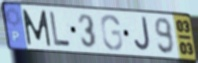3: (76, 13, 97, 50)
9: (154, 16, 177, 56)
G: (99, 13, 124, 52)
J: (133, 16, 152, 53)
L: (48, 10, 72, 48)
M: (21, 8, 53, 48)
